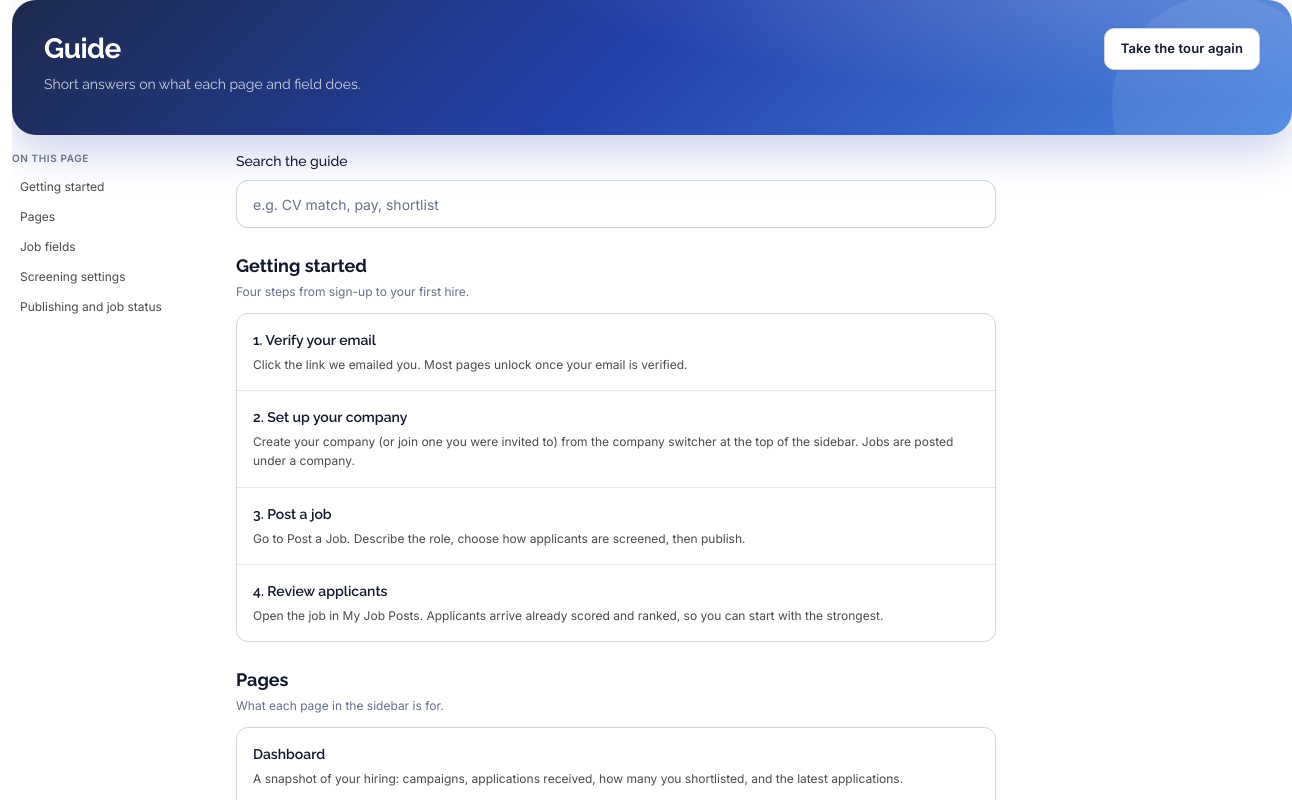
Scenario: Guide › says when nothing matches
Type "quantum" into the search field labelled "Search the guide" at (616,204), box [236,180,996,228]
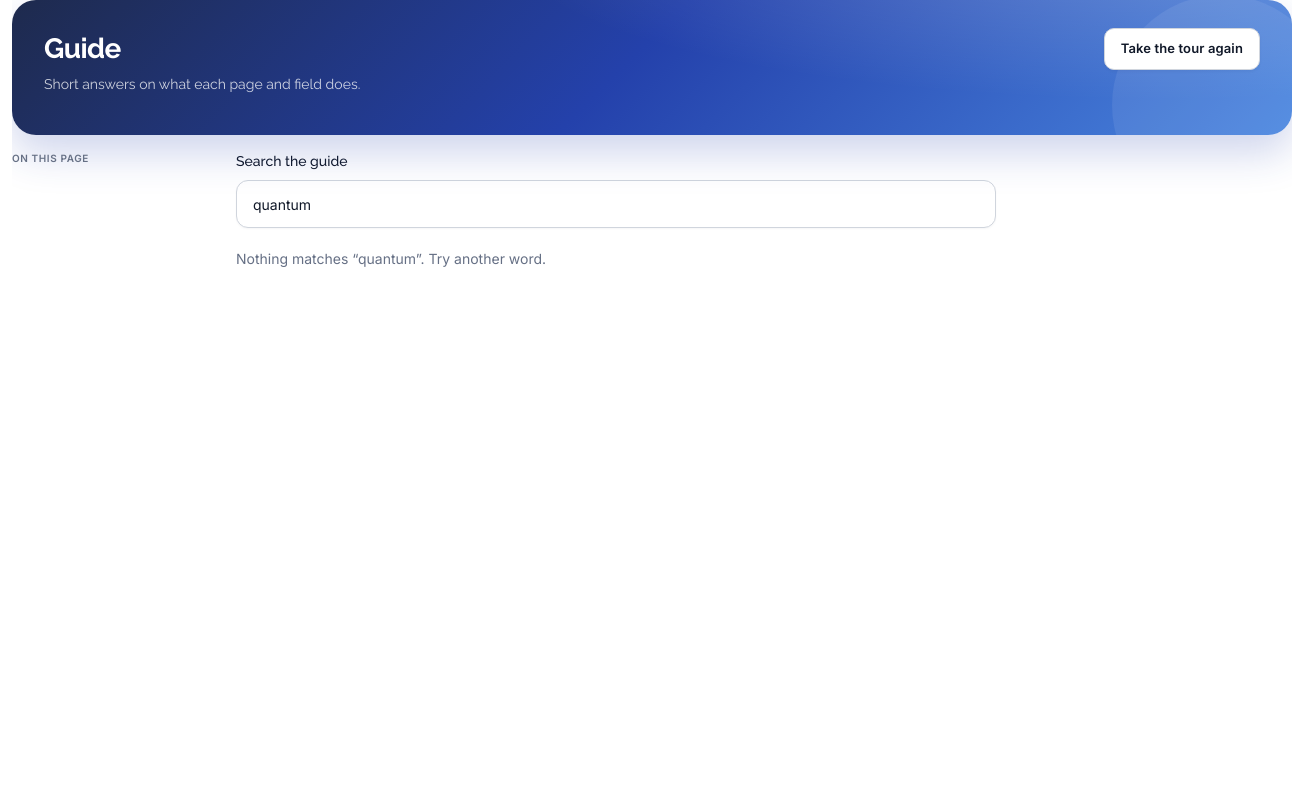
Expected: the message shows "Nothing matches", [236,250,358,267]
